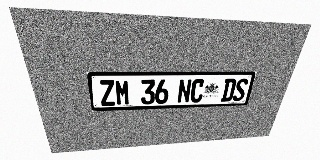3: (141, 79, 155, 104)
6: (155, 79, 169, 104)
C: (189, 79, 205, 103)
D: (220, 78, 237, 102)
M: (114, 80, 130, 105)
N: (177, 79, 192, 103)
S: (232, 78, 249, 101)
Z: (98, 80, 116, 106)
